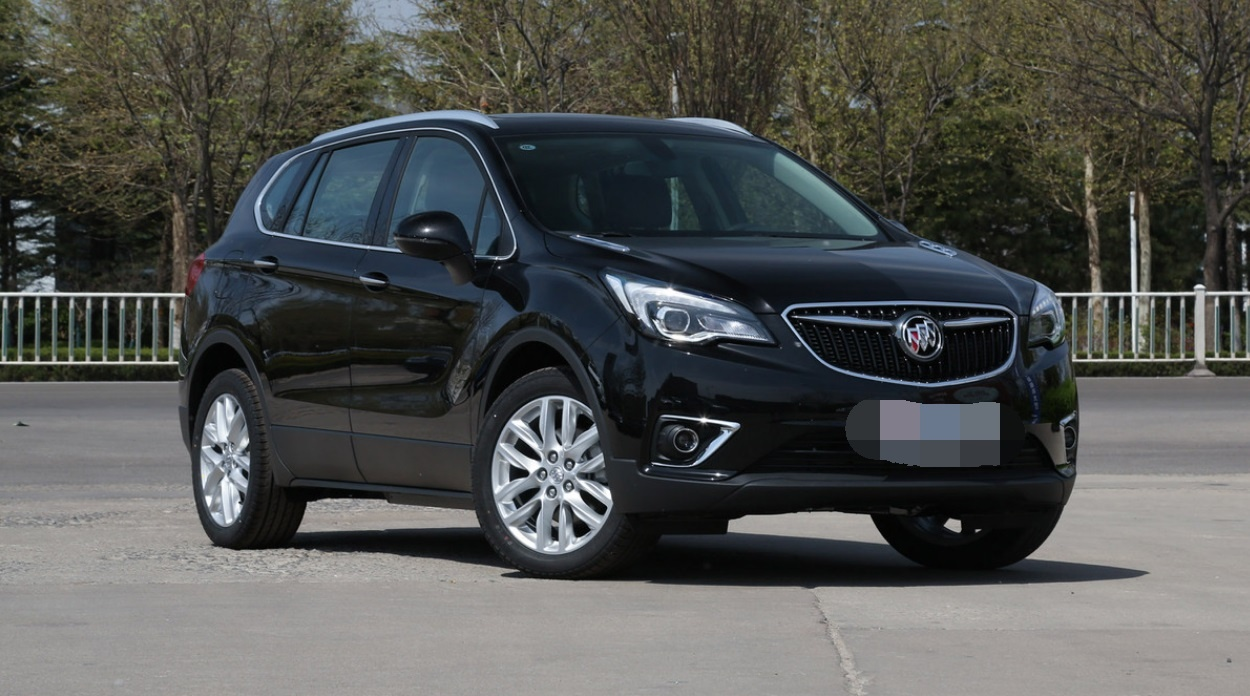SUV: (164, 88, 1075, 615)
